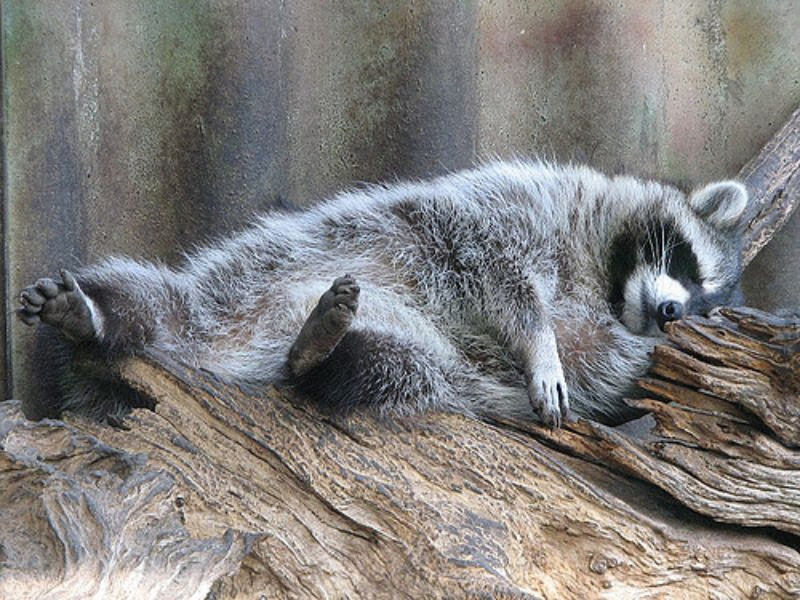raccoon: (15, 157, 753, 449)
